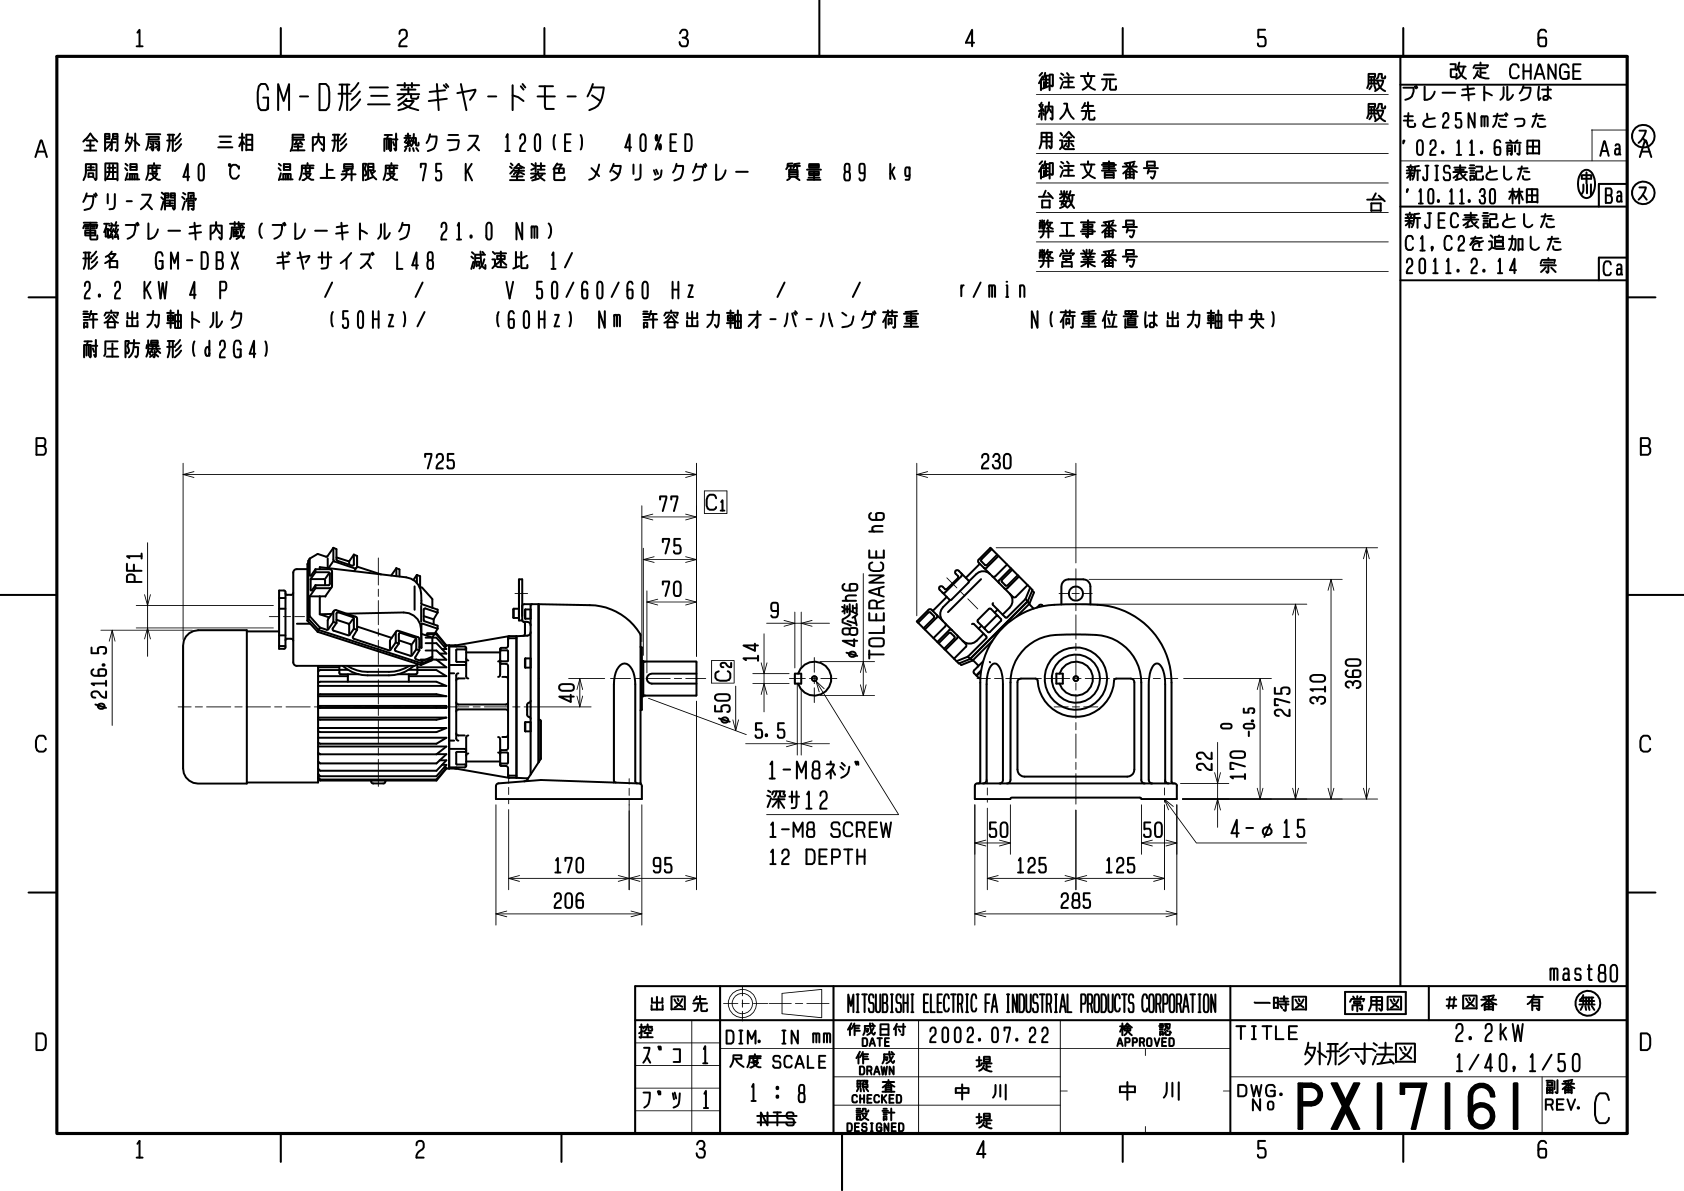GM_D_耐圧屋内_三相_脚: (70, 440, 1392, 934)
